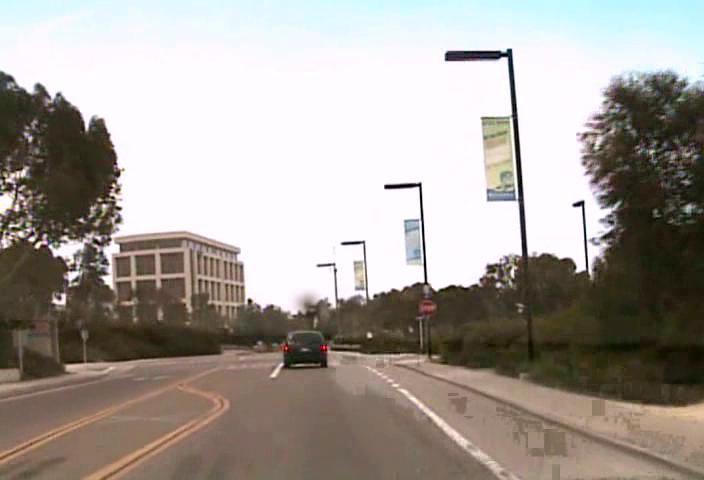stop: (417, 298, 436, 317)
